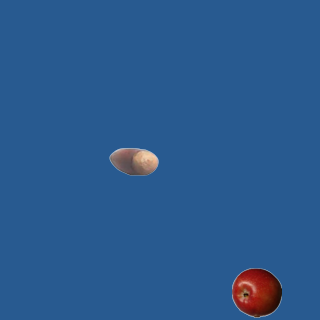Apple Braeburn: (231, 267, 281, 317)
Hazelnut: (108, 136, 158, 186)
